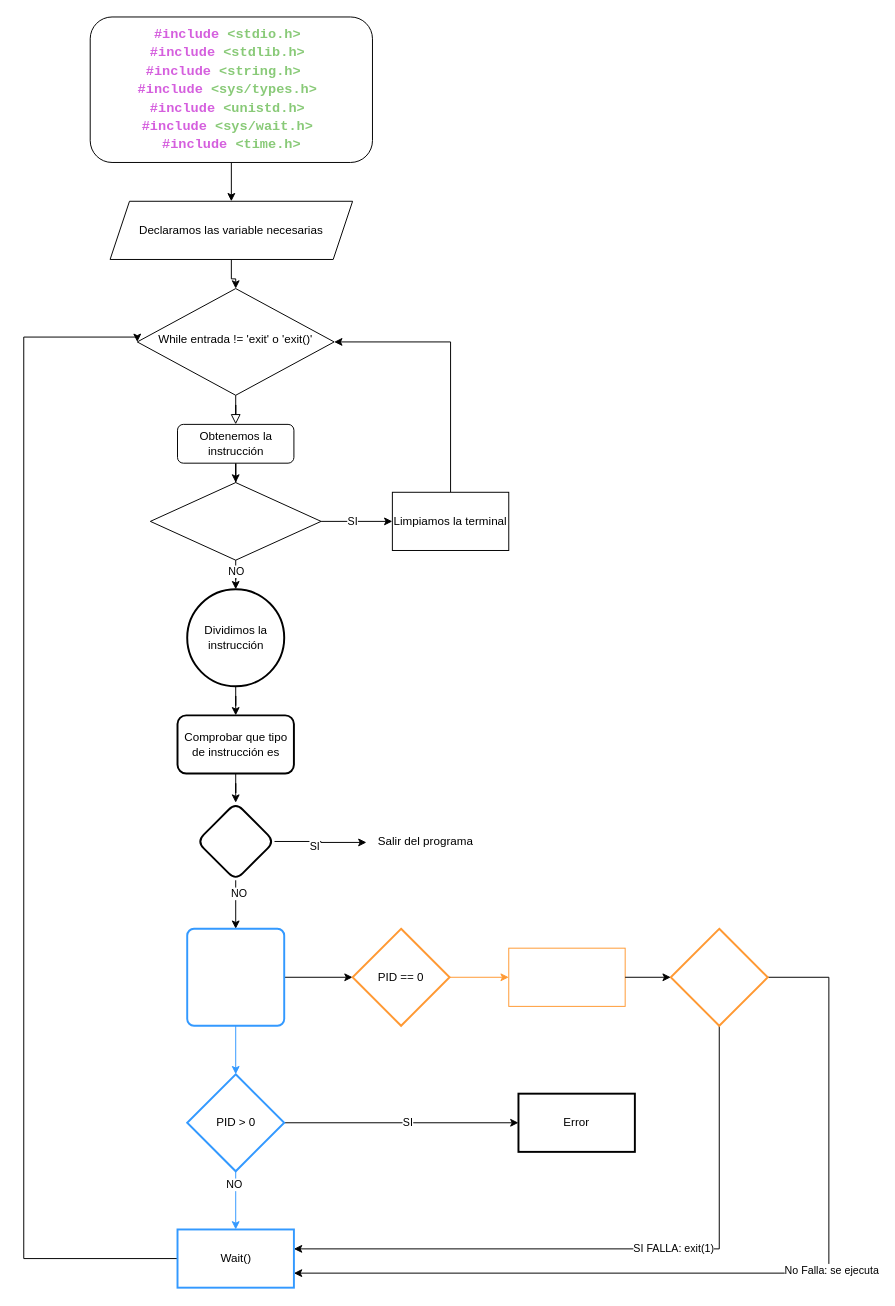
Some shapes in this 895 by 1306 pixel diagram are drawn without their labels. Here are the shapes that lost their labels. From the top down, the box of each, then its label:
(149, 482, 321, 560): Si la intruccion == 'clear'
(195, 801, 275, 881): Si es un exit
(186, 927, 285, 1026): fork()
(508, 947, 625, 1006): obtenemos el PID del padre y el hijo
(669, 927, 768, 1026): Se intenta ejecutar la instruccion
